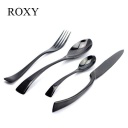Fork: (5, 28, 74, 81)
